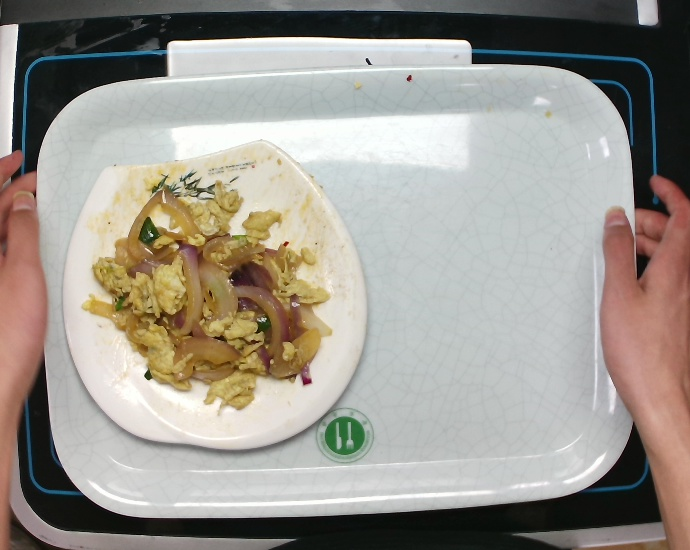JYsf-Mian_Pan: (53, 135, 375, 459)
